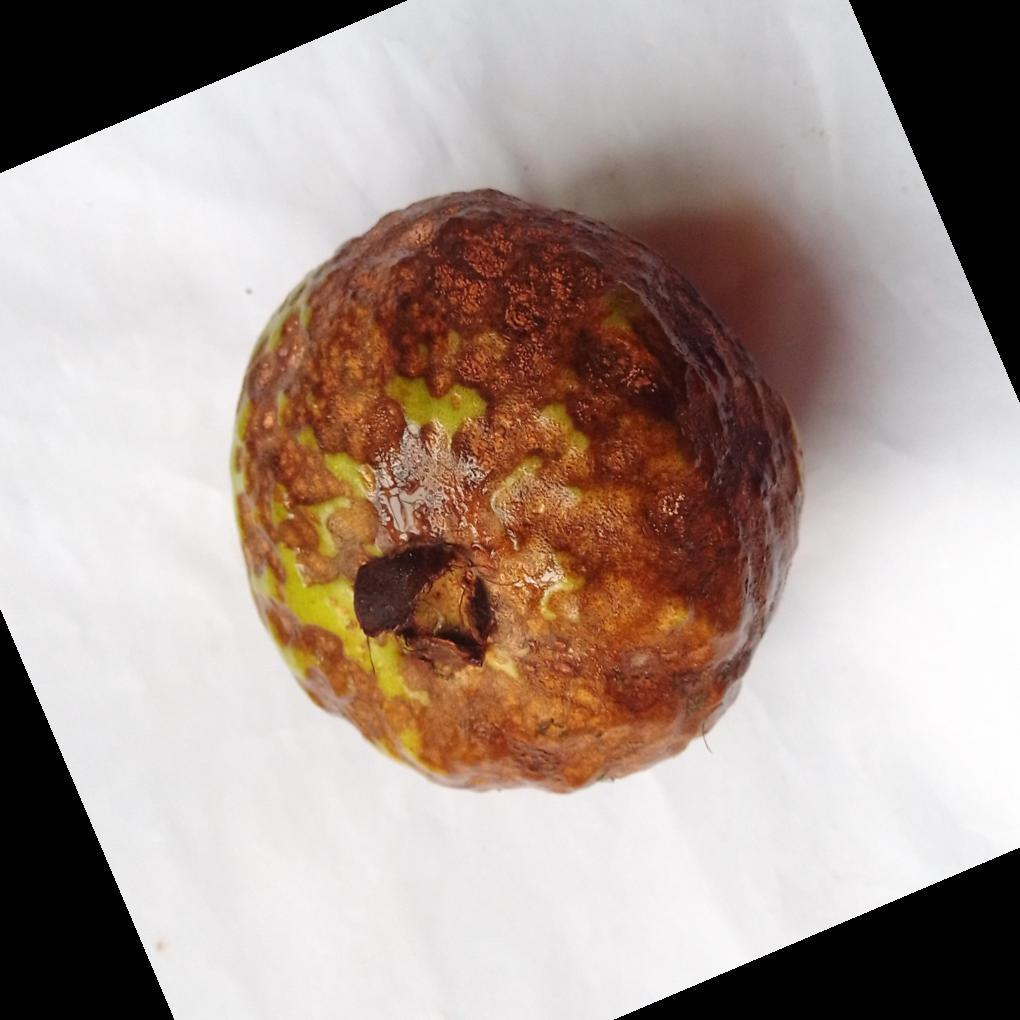FreshOrange: (230, 189, 804, 798)
